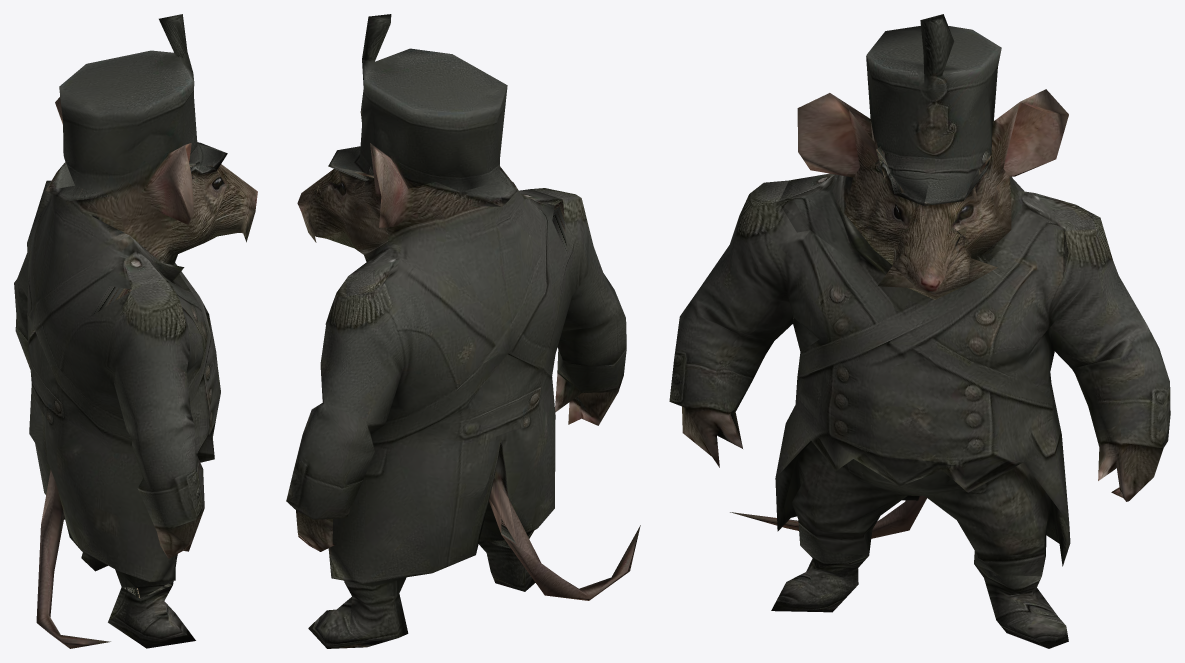
File: infantry_atk_gibs.glb
The picture shows the model from 3 angles, left to right: view 1: azimuth 30°, elevation 25°; view 2: azimuth 150°, elevation 25°; view 3: azimuth 270°, elevation 25°; orthographic projection. The views are drawn at different scales.
Visible parts, largest first — view 1: body.001, hat.001, armL.001, legL.001, tail.001, armR.001; view 2: body.001, hat.001, armR.001, armL.001, legR.001, tail.001, legL.001; view 3: body.001, hat.001, armL.001, armR.001, legR.001, legL.001, tail.001.
Boxes of the visible parts, x1,y1,x2,y2 form: body.001: [27, 96, 257, 587]; hat.001: [46, 14, 227, 201]; armL.001: [90, 286, 204, 558]; legL.001: [108, 569, 195, 648]; tail.001: [36, 469, 110, 648]; armR.001: [14, 180, 51, 369]; body.001: [297, 143, 571, 586]; hat.001: [328, 14, 517, 206]; armR.001: [286, 276, 411, 551]; armL.001: [530, 188, 626, 425]; legR.001: [308, 577, 408, 648]; tail.001: [489, 478, 640, 600]; legL.001: [478, 530, 535, 591]; body.001: [775, 89, 1075, 576]; hat.001: [866, 14, 1001, 205]; armL.001: [669, 180, 810, 467]; armR.001: [1049, 205, 1170, 501]; legR.001: [974, 564, 1068, 648]; legL.001: [771, 556, 868, 612]; tail.001: [730, 496, 926, 538].
Size of the model in its own units: 0.4605 by 0.9719 by 0.7049.
1 material, 1 textured.
